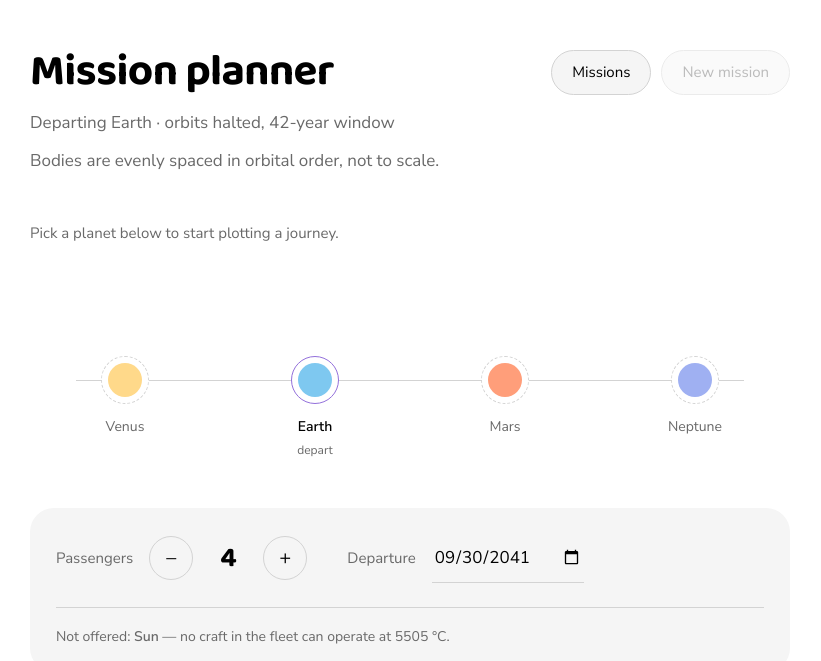
Scenario: planner screen › says so plainly when nothing in the fleet can fly the route
This screenshot has width=821, height=661.
Click the button "Mars" at (505, 404), box [410, 348, 600, 460]
(page scrolled)
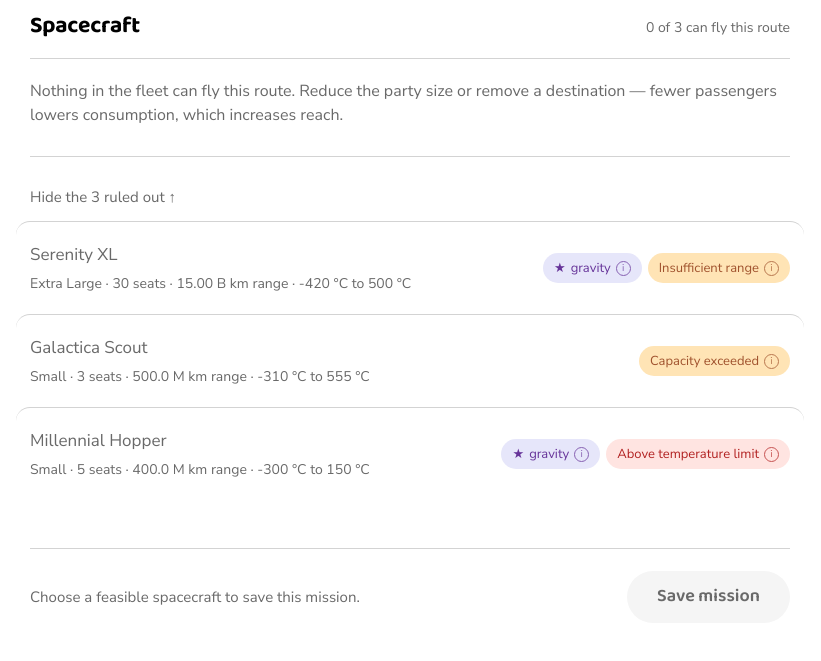
Check: the text "Serenity XL" is shown, box [30, 243, 118, 266]
Check: the text "Nothing in the fleet can fly this route" is shown, box [30, 80, 777, 126]
Check: the text "0 of 3 can fly this route" is shown, box [646, 17, 790, 39]
